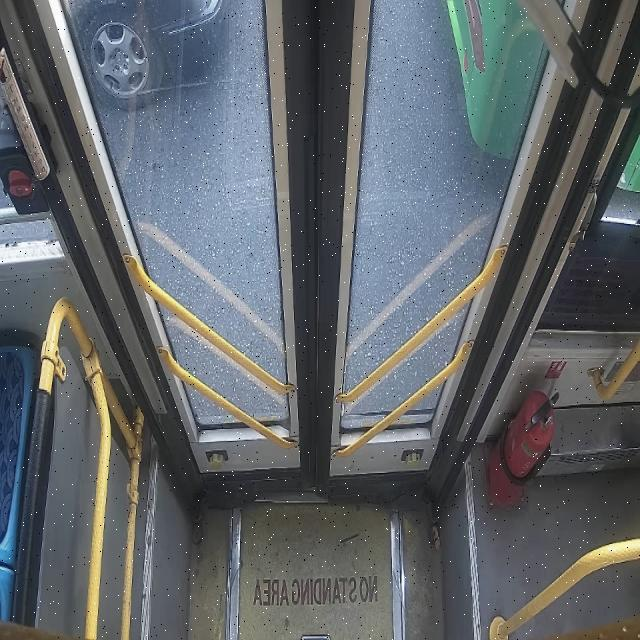close: (61, 1, 563, 487)
